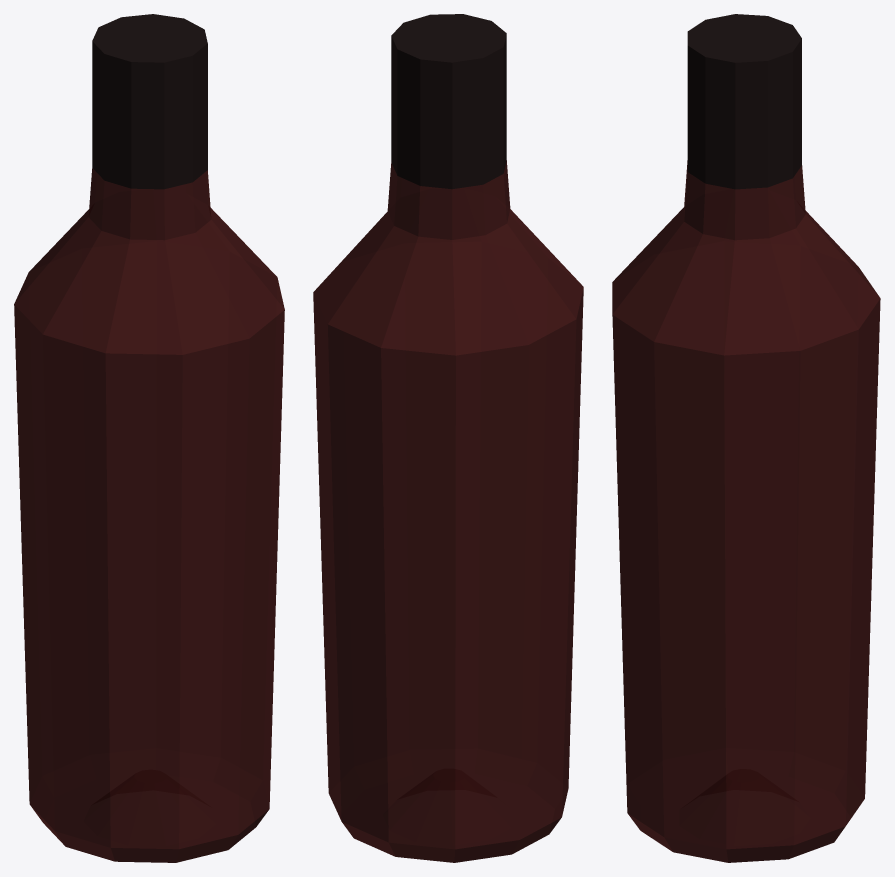
Rendered from wine-red.fbx.
3 views of the same model, side by side, from view 1: azimuth 30°, elevation 25°; view 2: azimuth 150°, elevation 25°; view 3: azimuth 270°, elevation 25° (orthographic).
Parts seen in each view (by area): view 1: Cylinder; view 2: Cylinder; view 3: Cylinder.
Part boxes in pixels (box(x1,y1,x2,y2)): Cylinder: box(14, 14, 284, 862); Cylinder: box(313, 14, 583, 862); Cylinder: box(612, 14, 880, 862).
Size of the model in its own units: 223 by 709 by 221.
